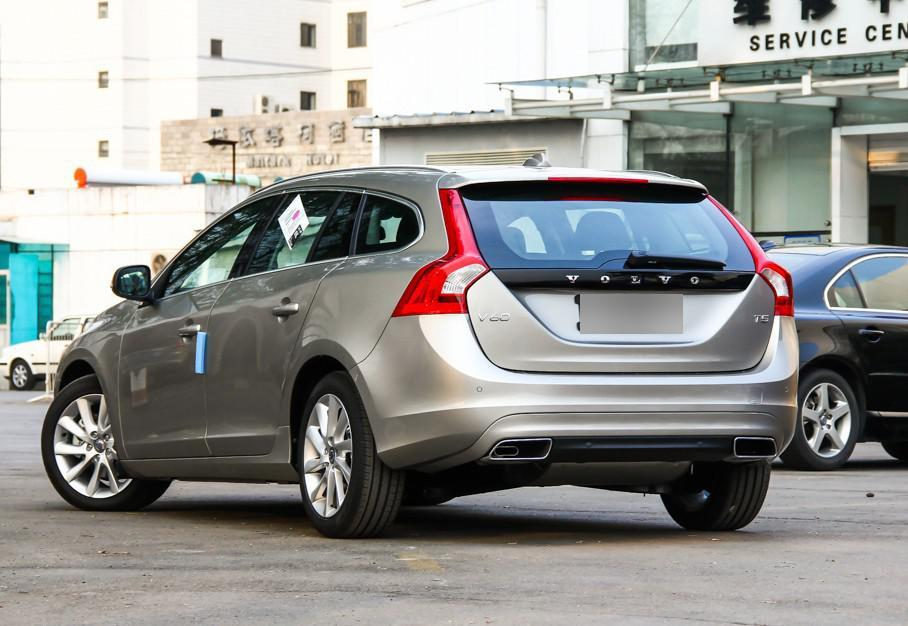Wagon: (40, 152, 799, 541)
